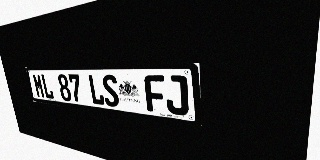7: (67, 74, 83, 103)
8: (57, 74, 72, 102)
F: (144, 75, 166, 113)
J: (164, 75, 189, 116)
L: (87, 74, 105, 106), (40, 74, 54, 99)
M: (32, 74, 45, 98)
S: (101, 75, 120, 108)
